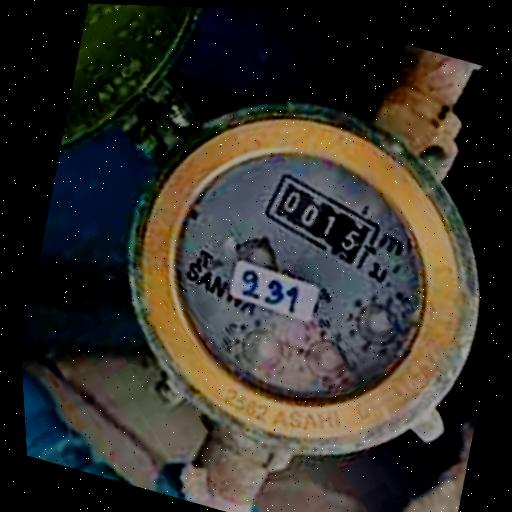0: (288, 190, 328, 236), (272, 180, 309, 223)
1: (306, 200, 352, 249)
5: (327, 213, 373, 267)
border_water_meter_number: (252, 165, 391, 274)
